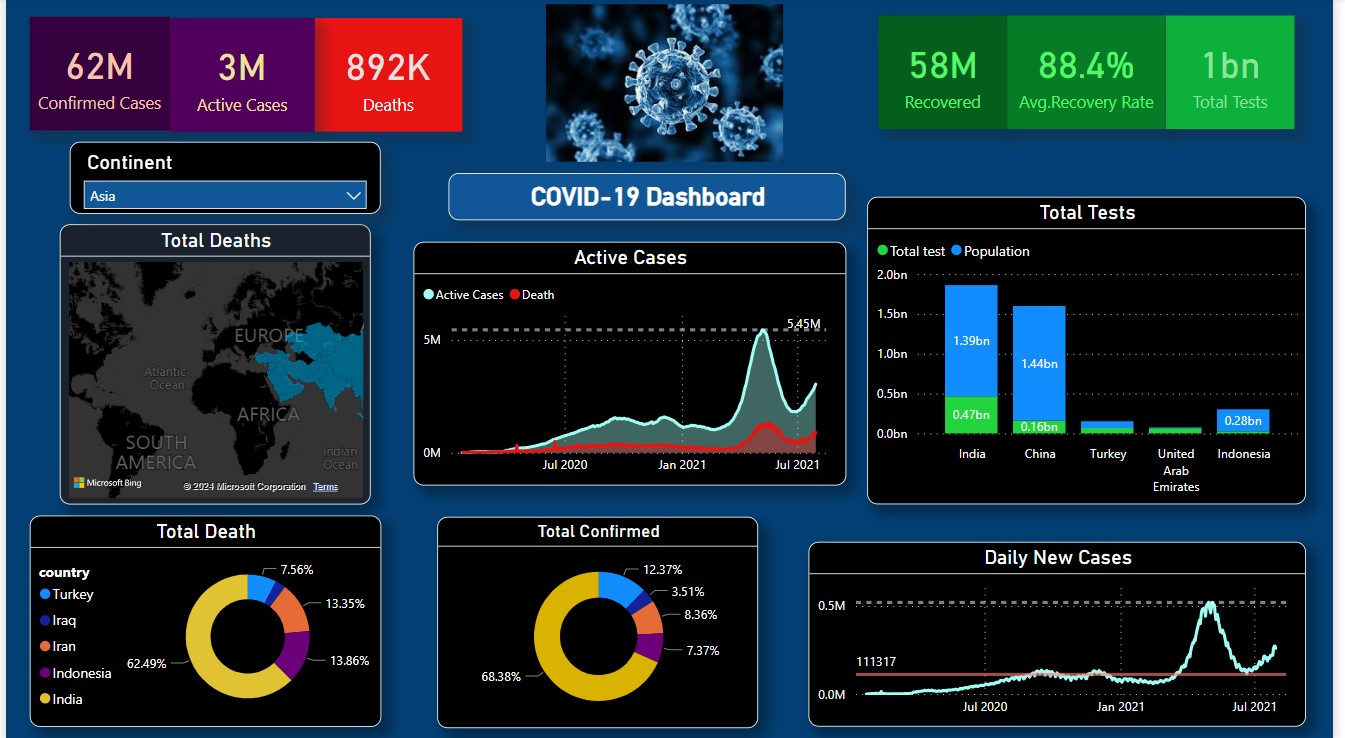

The dashboard page shown, as its layout file describes it:
{"tool":"powerbi","page":{"name":"page 1","canvas":[1280,720],"ordinal":0},"visuals":[{"type":"card","fields":{"Values":["Sum(worldometer_coronavirus_summary_data.total_recovered)"]},"box":[841.8,16.9,124.2,109.7],"z":0},{"type":"card","fields":{"Values":["Sum(worldometer_coronavirus_summary_data.total_confirmed)"]},"box":[22.9,18.1,135.1,109.7],"z":1000},{"type":"card","fields":{"Values":["Avg(worldometer_coronavirus_summary_data.RecoveryRate)"]},"box":[966,16.9,153.2,109.7],"z":2000},{"type":"card","fields":{"Values":["Sum(worldometer_coronavirus_summary_data.total_tests)"]},"box":[1119.2,16.9,124.2,109.7],"z":3000},{"type":"areaChart","title":"Active Cases","fields":{"Category":["worldometer_coronavirus_daily_data.date.Variation.Date Hierarchy.Year"],"Y":["Sum(worldometer_coronavirus_daily_data.active_cases)"],"Y2":["Sum(worldometer_coronavirus_daily_data.daily_new_deaths)"]},"box":[393.2,235.2,417.3,235.2],"z":4000},{"type":"card","fields":{"Values":["Sum(worldometer_coronavirus_daily_data.daily_new_deaths)"]},"box":[297.9,19.3,142.3,109.7],"z":5000},{"type":"card","fields":{"Values":["Sum(worldometer_coronavirus_summary_data.active_cases)"]},"box":[158,19.3,139.9,109.7],"z":6000},{"type":"columnChart","title":"Total Tests","fields":{"Category":["worldometer_coronavirus_summary_data.country"],"Y":["Sum(worldometer_coronavirus_summary_data.total_tests)","Sum(worldometer_coronavirus_summary_data.population)"]},"box":[831,191.8,423.3,296.7],"z":7000},{"type":"lineChart","title":"Daily New Cases","fields":{"Category":["worldometer_coronavirus_daily_data.date.Variation.Date Hierarchy.Year"],"Y":["Sum(worldometer_coronavirus_daily_data.daily_new_cases)"]},"box":[774.3,524.6,480,178.5],"z":8000},{"type":"donutChart","title":"Total Death","fields":{"Category":["worldometer_coronavirus_summary_data.country"],"Y":["Sum(worldometer_coronavirus_summary_data.total_deaths)"]},"box":[22.9,499.3,338.9,203.8],"z":9000},{"type":"donutChart","title":"Total Confirmed","fields":{"Category":["worldometer_coronavirus_summary_data.country"],"Y":["Sum(worldometer_coronavirus_summary_data.total_confirmed)"],"Series":["worldometer_coronavirus_summary_data.RecoveryRate"]},"box":[416.1,500.5,309.9,203.8],"z":10000},{"type":"filledMap","title":"Total Deaths","fields":{"Category":["worldometer_coronavirus_summary_data.country"]},"box":[51.9,218.3,300.3,270.2],"z":11000},{"type":"image","box":[440.2,1.2,390.8,161.6],"z":12000},{"type":"slicer","fields":{"Values":["worldometer_coronavirus_summary_data.continent"]},"box":[61.5,138.7,300.3,69.9],"z":13000},{"type":"textbox","box":[426.9,168.8,383.5,45.8],"z":14000}]}

Visuals, with their boxes in screenshot pixels (x1, y1, x2, y2), scaled from the page's 1280x720 canvas onto the 1345x738 screenshot:
card - Sum(worldometer_coronavirus_summary_data.total_recovered): 885 17 1015 130
card - Sum(worldometer_coronavirus_summary_data.total_confirmed): 24 19 166 131
card - Avg(worldometer_coronavirus_summary_data.RecoveryRate): 1015 17 1176 130
card - Sum(worldometer_coronavirus_summary_data.total_tests): 1176 17 1307 130
"Active Cases" areaChart: 413 241 852 482
card - Sum(worldometer_coronavirus_daily_data.daily_new_deaths): 313 20 463 132
card - Sum(worldometer_coronavirus_summary_data.active_cases): 166 20 313 132
"Total Tests" columnChart: 873 197 1318 501
"Daily New Cases" lineChart: 814 538 1318 721
"Total Death" donutChart: 24 512 380 721
"Total Confirmed" donutChart: 437 513 763 722
"Total Deaths" filledMap: 55 224 370 501
image: 463 1 873 167
slicer - worldometer_coronavirus_summary_data.continent: 65 142 380 214
textbox: 449 173 852 220
